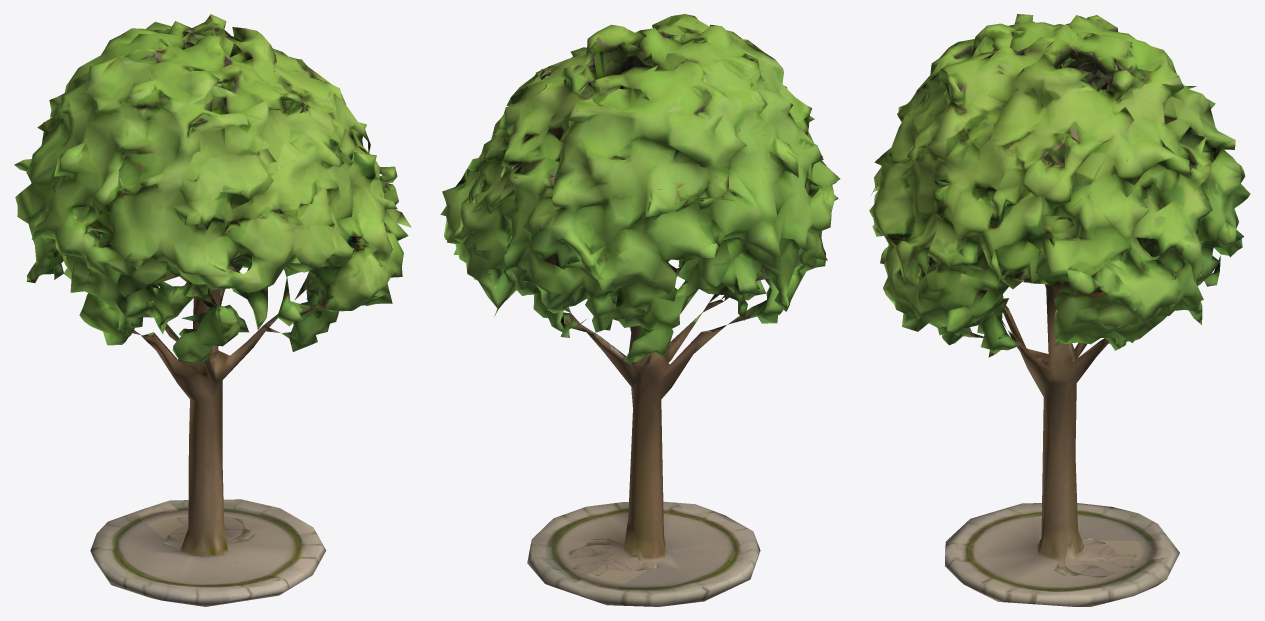
File: street_tree.glb
3 renders of one model, left to right at view 1: azimuth 30°, elevation 25°; view 2: azimuth 150°, elevation 25°; view 3: azimuth 270°, elevation 25°, orthographic.
Bounding box in the file's own units: 1.33 × 1.99 × 1.31.
1 material, 1 textured.
